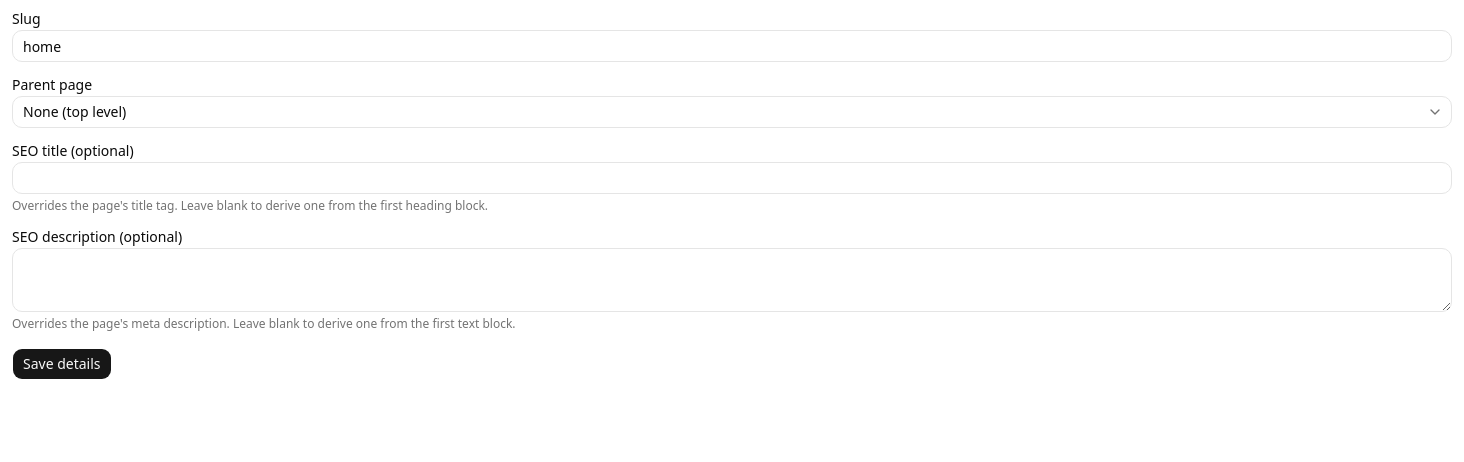
Test: DocumentDetailsForm › shows the generic error banner for a non-slug failure
The image size is (1464, 462).
Click the button "Save details" at (62, 364), box [12,348,112,380]
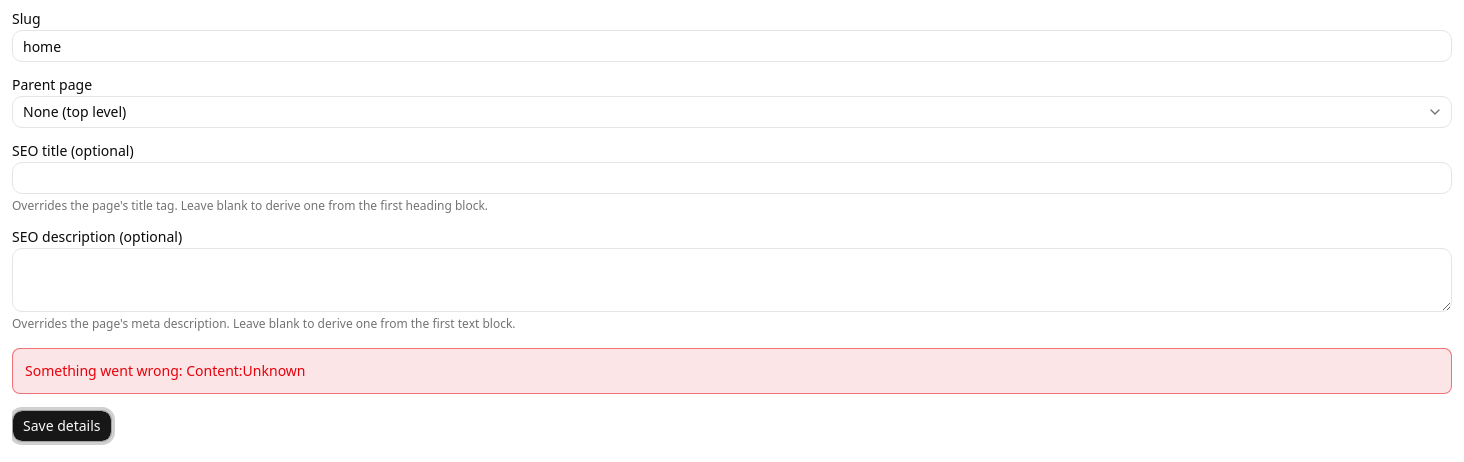
Result: the text "Something went wrong: Content:Unknown" is shown at [12,348,1452,394]
